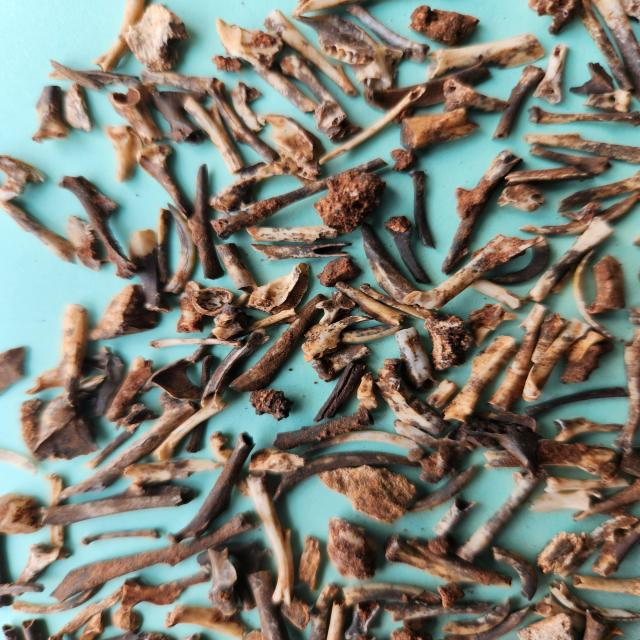fossil: (45, 511, 264, 600), (54, 392, 204, 501), (209, 156, 390, 240), (400, 226, 547, 312), (440, 145, 526, 276), (228, 292, 330, 397), (165, 429, 258, 544), (453, 464, 553, 562), (258, 7, 362, 101), (55, 172, 143, 282), (288, 10, 406, 91), (316, 85, 428, 166), (269, 448, 426, 503), (278, 52, 367, 146), (522, 215, 614, 305), (37, 480, 196, 531), (242, 466, 298, 608), (25, 296, 93, 412), (24, 372, 111, 462), (385, 530, 513, 590), (485, 301, 552, 415), (437, 332, 520, 423), (362, 61, 495, 115), (481, 433, 623, 482), (370, 357, 453, 440), (536, 514, 640, 580), (177, 89, 254, 178), (316, 463, 423, 527), (45, 574, 148, 640), (206, 75, 283, 163), (422, 29, 548, 82), (517, 317, 594, 403), (0, 194, 84, 267), (516, 189, 640, 238), (152, 392, 236, 463), (197, 328, 273, 405), (16, 396, 100, 464), (207, 153, 302, 213), (463, 413, 548, 480), (356, 218, 421, 305), (576, 0, 635, 94), (120, 0, 191, 77), (344, 4, 432, 66), (184, 161, 227, 283), (79, 281, 163, 343), (591, 0, 640, 104), (313, 169, 390, 235), (258, 110, 327, 183), (487, 62, 548, 144), (187, 289, 252, 365), (132, 144, 194, 223), (143, 78, 211, 150), (323, 510, 388, 584), (179, 350, 223, 456), (87, 0, 149, 75), (266, 408, 376, 450), (569, 247, 618, 340), (211, 15, 285, 75), (396, 105, 479, 158), (408, 419, 475, 484), (116, 570, 212, 614), (520, 131, 640, 166), (532, 593, 627, 637), (8, 539, 76, 600), (523, 382, 632, 420), (104, 351, 159, 426), (250, 59, 322, 116), (382, 212, 436, 288), (549, 576, 640, 620), (332, 278, 412, 328), (297, 313, 375, 364), (312, 358, 372, 424), (296, 428, 423, 459), (247, 259, 316, 316), (128, 226, 172, 315), (101, 86, 166, 146), (8, 579, 108, 618), (405, 462, 476, 516), (611, 324, 640, 456), (440, 600, 535, 640), (554, 169, 640, 212), (159, 200, 196, 298), (127, 358, 209, 402), (206, 428, 256, 499), (161, 600, 252, 639), (409, 4, 486, 49), (390, 325, 440, 394), (421, 312, 475, 375), (527, 100, 640, 130), (554, 330, 612, 388), (228, 546, 276, 616), (243, 567, 288, 640), (85, 342, 128, 418), (120, 456, 228, 486), (435, 594, 513, 635), (404, 168, 443, 250), (581, 250, 629, 316), (589, 517, 640, 579), (376, 597, 496, 623), (358, 281, 438, 320), (100, 121, 148, 185), (571, 477, 640, 521), (28, 82, 75, 146), (526, 143, 614, 177), (438, 76, 512, 116), (136, 64, 222, 98), (307, 342, 375, 385), (0, 151, 54, 204), (489, 544, 539, 601), (214, 242, 263, 300), (62, 211, 107, 274), (40, 66, 144, 93), (535, 527, 591, 577), (463, 300, 520, 348), (388, 416, 462, 452), (531, 41, 571, 107), (518, 0, 587, 38), (302, 581, 346, 640), (548, 414, 628, 446), (0, 488, 49, 540), (248, 240, 354, 264), (226, 79, 270, 136), (526, 486, 606, 516), (76, 523, 168, 549), (342, 579, 427, 607), (189, 538, 258, 572), (468, 275, 527, 314), (500, 164, 599, 187), (242, 223, 344, 245), (58, 82, 99, 136), (41, 469, 67, 554), (83, 428, 133, 472), (529, 312, 571, 364), (47, 57, 106, 94), (430, 497, 487, 535), (391, 589, 442, 631), (569, 570, 640, 600), (242, 446, 311, 476), (537, 472, 634, 493), (247, 386, 300, 424), (111, 400, 166, 436), (0, 339, 31, 402), (342, 595, 385, 640), (152, 204, 174, 288), (513, 610, 574, 640), (238, 305, 302, 333), (315, 254, 363, 291), (312, 290, 357, 328), (566, 62, 616, 96), (187, 284, 238, 317), (276, 588, 312, 634), (288, 0, 374, 19), (494, 182, 544, 214), (338, 321, 404, 345), (298, 534, 325, 592), (143, 335, 245, 350), (173, 290, 207, 334), (580, 88, 633, 115), (579, 607, 620, 640), (0, 443, 40, 476), (74, 607, 110, 640), (426, 376, 462, 409), (382, 622, 442, 640), (433, 580, 470, 609), (618, 440, 640, 488), (206, 52, 246, 78), (325, 595, 348, 640), (355, 371, 379, 414), (107, 606, 145, 633), (556, 201, 600, 224), (99, 627, 173, 640), (388, 146, 422, 174), (208, 320, 247, 344), (212, 298, 242, 329), (388, 103, 420, 127), (0, 582, 47, 597), (17, 616, 45, 640), (618, 0, 640, 27), (0, 622, 24, 640), (173, 632, 217, 640)
